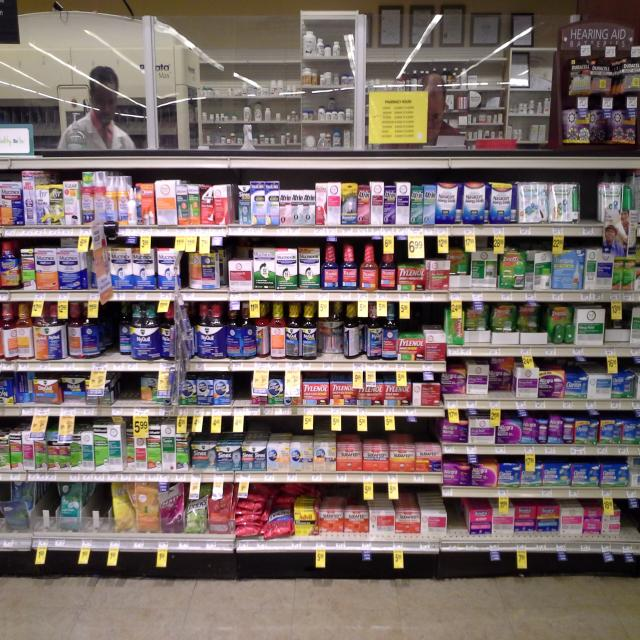empty: (578, 178, 607, 227), (97, 310, 123, 358), (113, 373, 146, 409), (446, 501, 473, 542), (229, 375, 255, 410)
